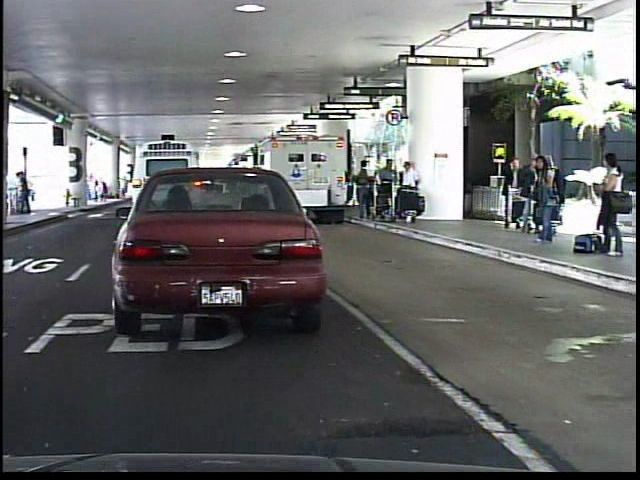person: (593, 147, 623, 262)
